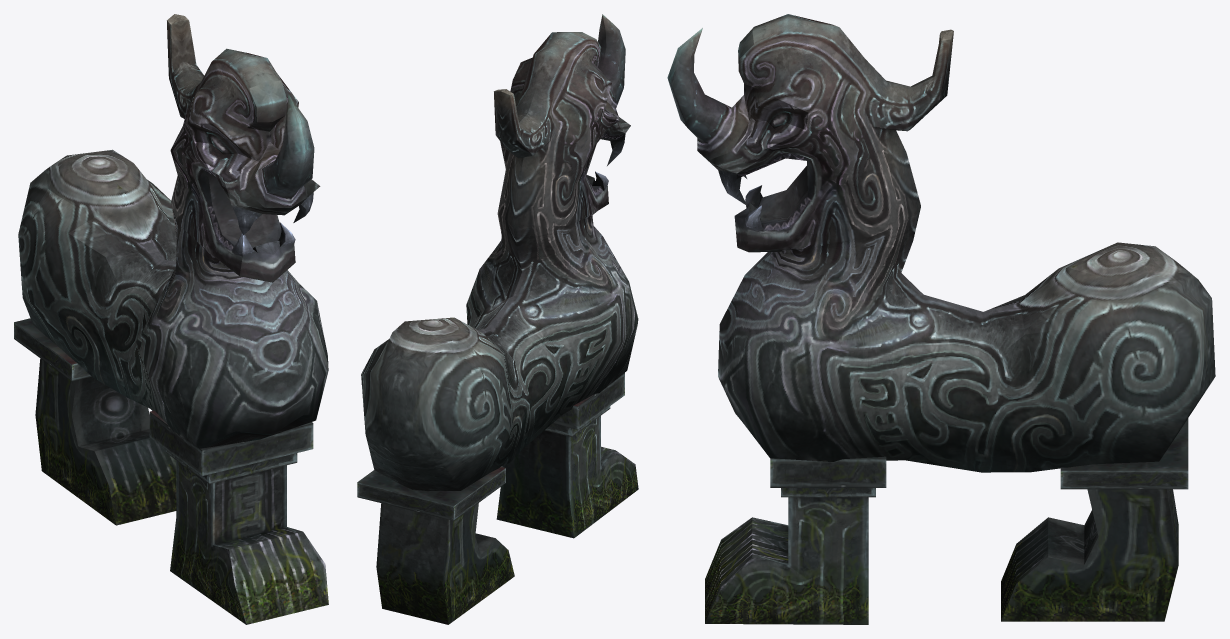
Rendered from diaosu_jx_60.FBX.
The picture shows the model from 3 angles, left to right: view 1: azimuth 30°, elevation 25°; view 2: azimuth 150°, elevation 25°; view 3: azimuth 270°, elevation 25°; orthographic projection. The views are drawn at different scales.
Parts seen in each view (by area): view 1: diaosu_jx_60; view 2: diaosu_jx_60; view 3: diaosu_jx_60.
Part boxes in pixels (x1=…): diaosu_jx_60: x1=14, y1=14, x2=328, y2=624; diaosu_jx_60: x1=357, y1=14, x2=638, y2=624; diaosu_jx_60: x1=667, y1=14, x2=1215, y2=624.
Size of what is drawn, in the model's own units: 696 by 2187 by 1864.
